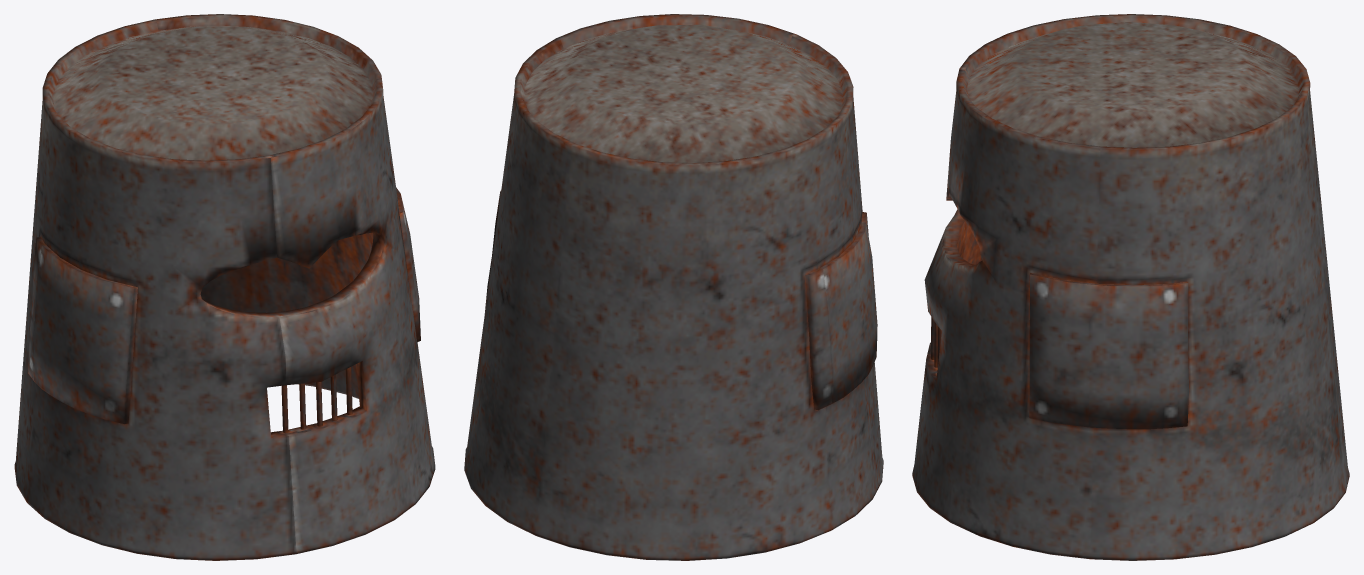
Rendered from ScrapHelmet_Ground.fbx.
3 views of the same model, side by side, from view 1: azimuth 30°, elevation 25°; view 2: azimuth 150°, elevation 25°; view 3: azimuth 270°, elevation 25° (orthographic). The views are drawn at different scales.
Visible parts, largest first — view 1: Cylinder; view 2: Cylinder; view 3: Cylinder.
Part boxes in pixels (bbox=[...]): Cylinder: bbox=[14, 14, 435, 560]; Cylinder: bbox=[464, 14, 883, 560]; Cylinder: bbox=[912, 14, 1349, 560].
Size of the model in its own units: 0.1514 by 0.1622 by 0.1553.
